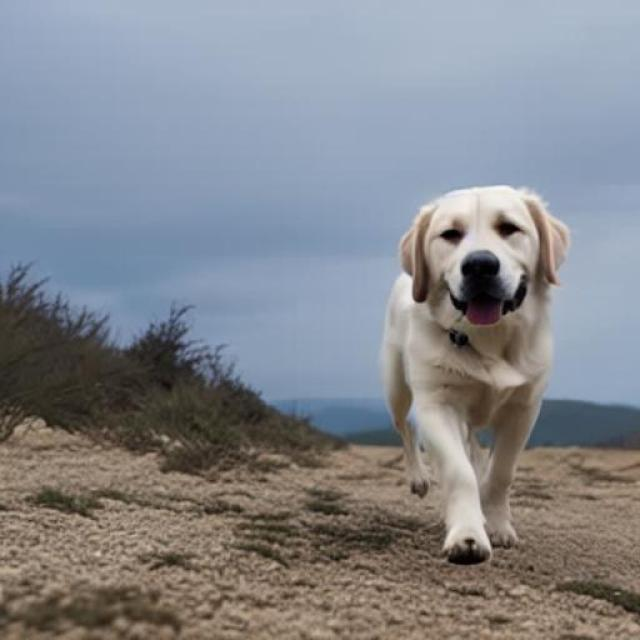Dog: (380, 186, 572, 566)
